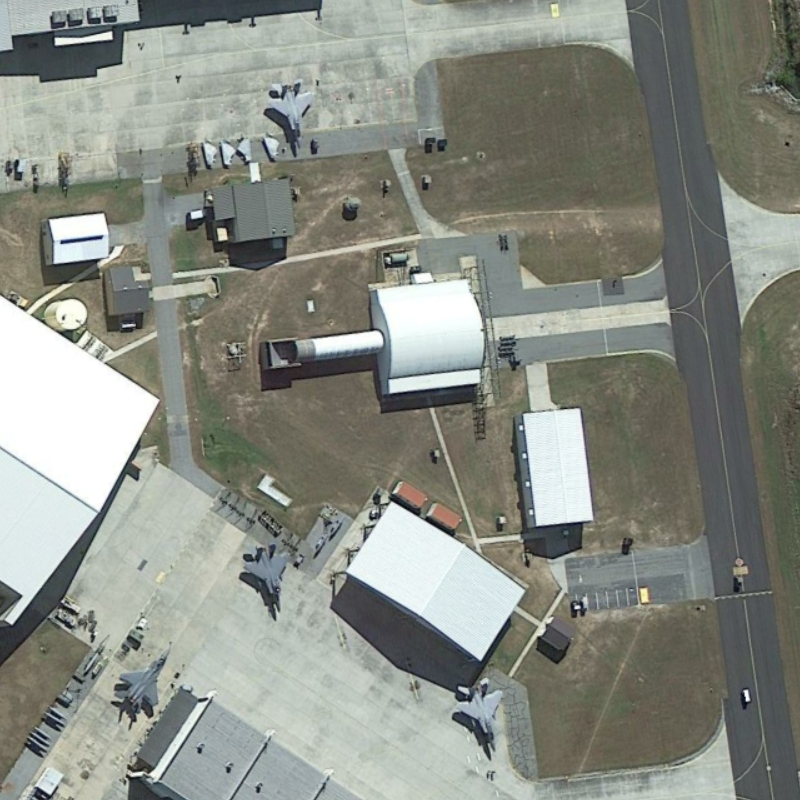A13: (108, 641, 174, 719), (261, 75, 317, 153), (451, 677, 507, 755), (241, 538, 294, 615)
